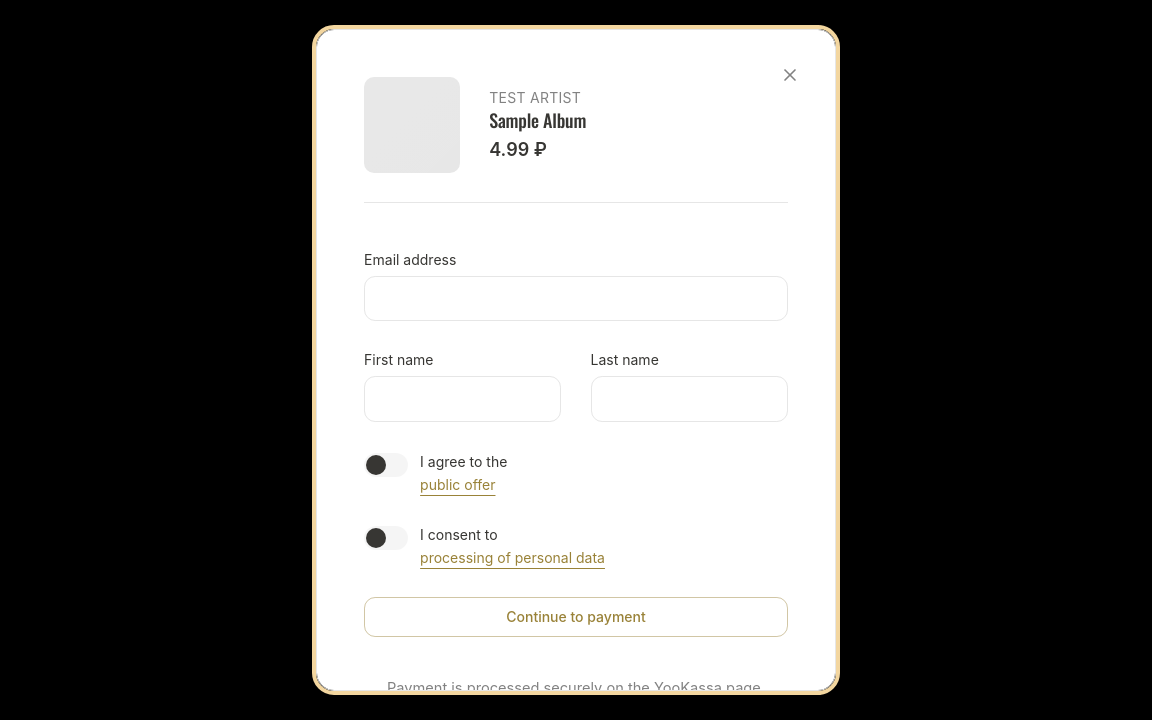
Test: AlbumCheckoutModal › blocks submit and surfaces validation errors when form is empty
Click the button "Continue to payment" at {"x": 576, "y": 617}, box [364,597,788,637]
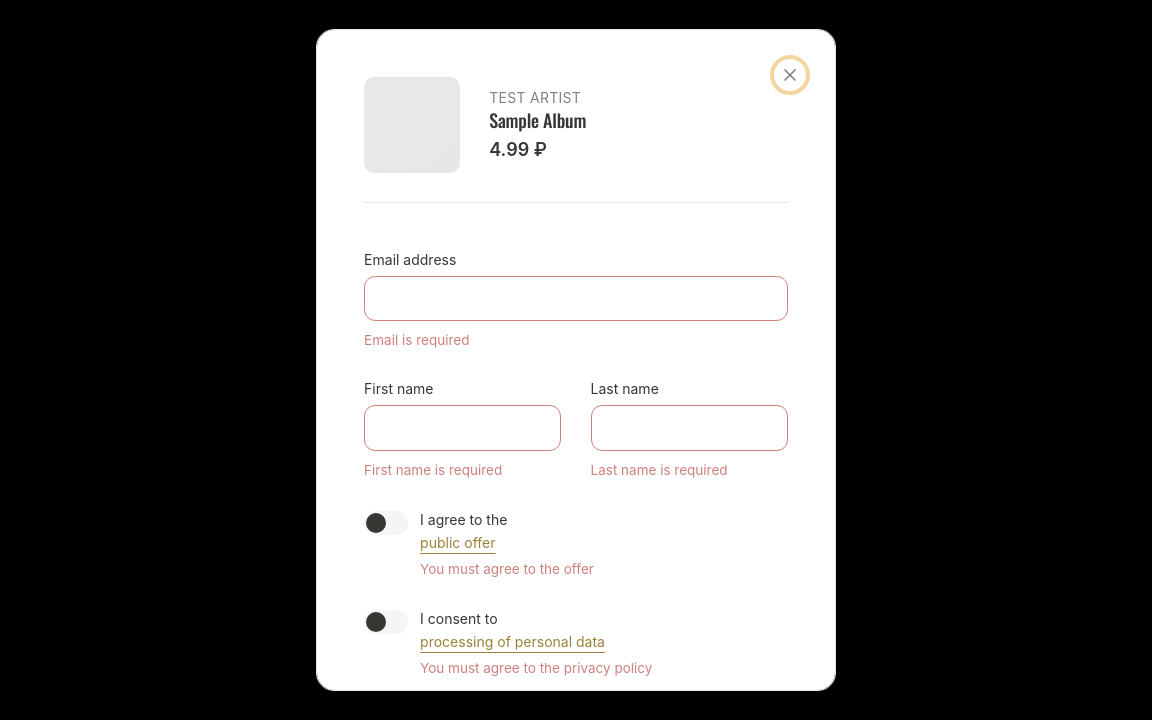
Check: the text "Email is required" is shown, box [364,332,469,348]
